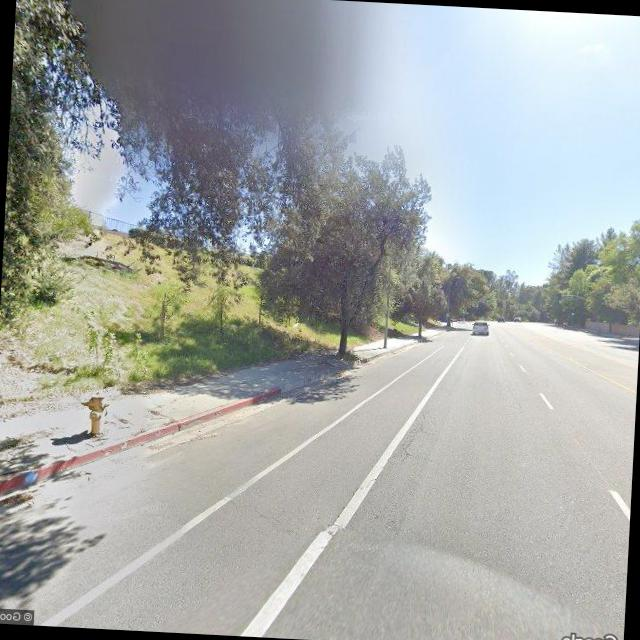pothole: (398, 406, 432, 465)
